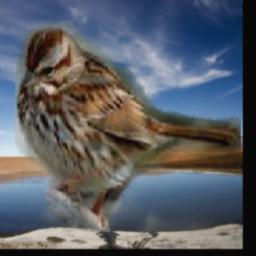Sparrow: (15, 21, 241, 233)
